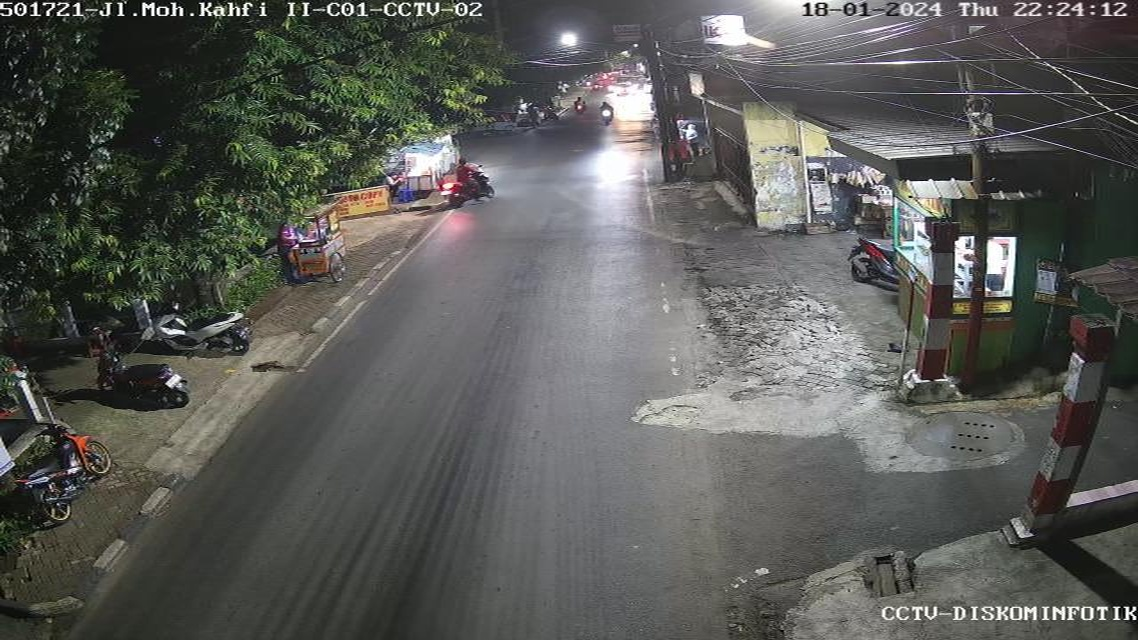Gerobak: (886, 191, 1019, 373), (270, 201, 361, 293), (366, 127, 466, 210), (478, 91, 530, 143)
